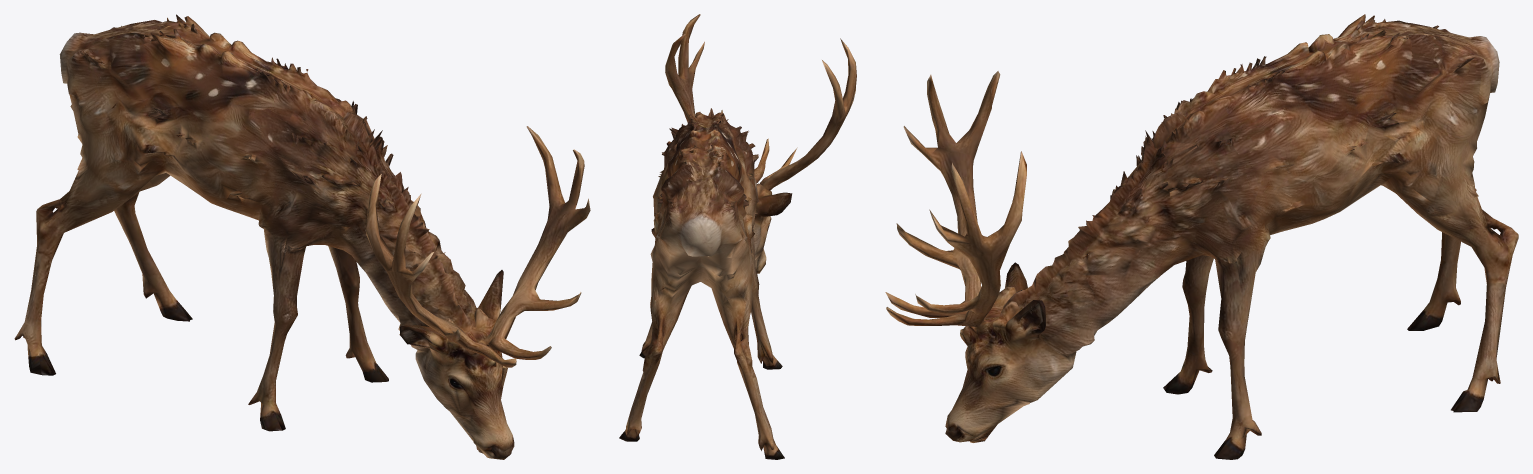
File: fleshdeer.glb
The picture shows the model from 3 angles, left to right: view 1: azimuth 30°, elevation 25°; view 2: azimuth 150°, elevation 25°; view 3: azimuth 270°, elevation 25°; orthographic projection. The views are drawn at different scales.
Visible parts, largest first — view 1: fleshdeer; view 2: fleshdeer; view 3: fleshdeer.
Part boxes in pixels (x1,y1,x2,y2): fleshdeer: [14, 14, 590, 459]; fleshdeer: [619, 14, 856, 459]; fleshdeer: [885, 14, 1518, 459].
Size of the model in its own units: 0.6501 by 0.6183 by 0.9784.
1 material, 1 textured.
